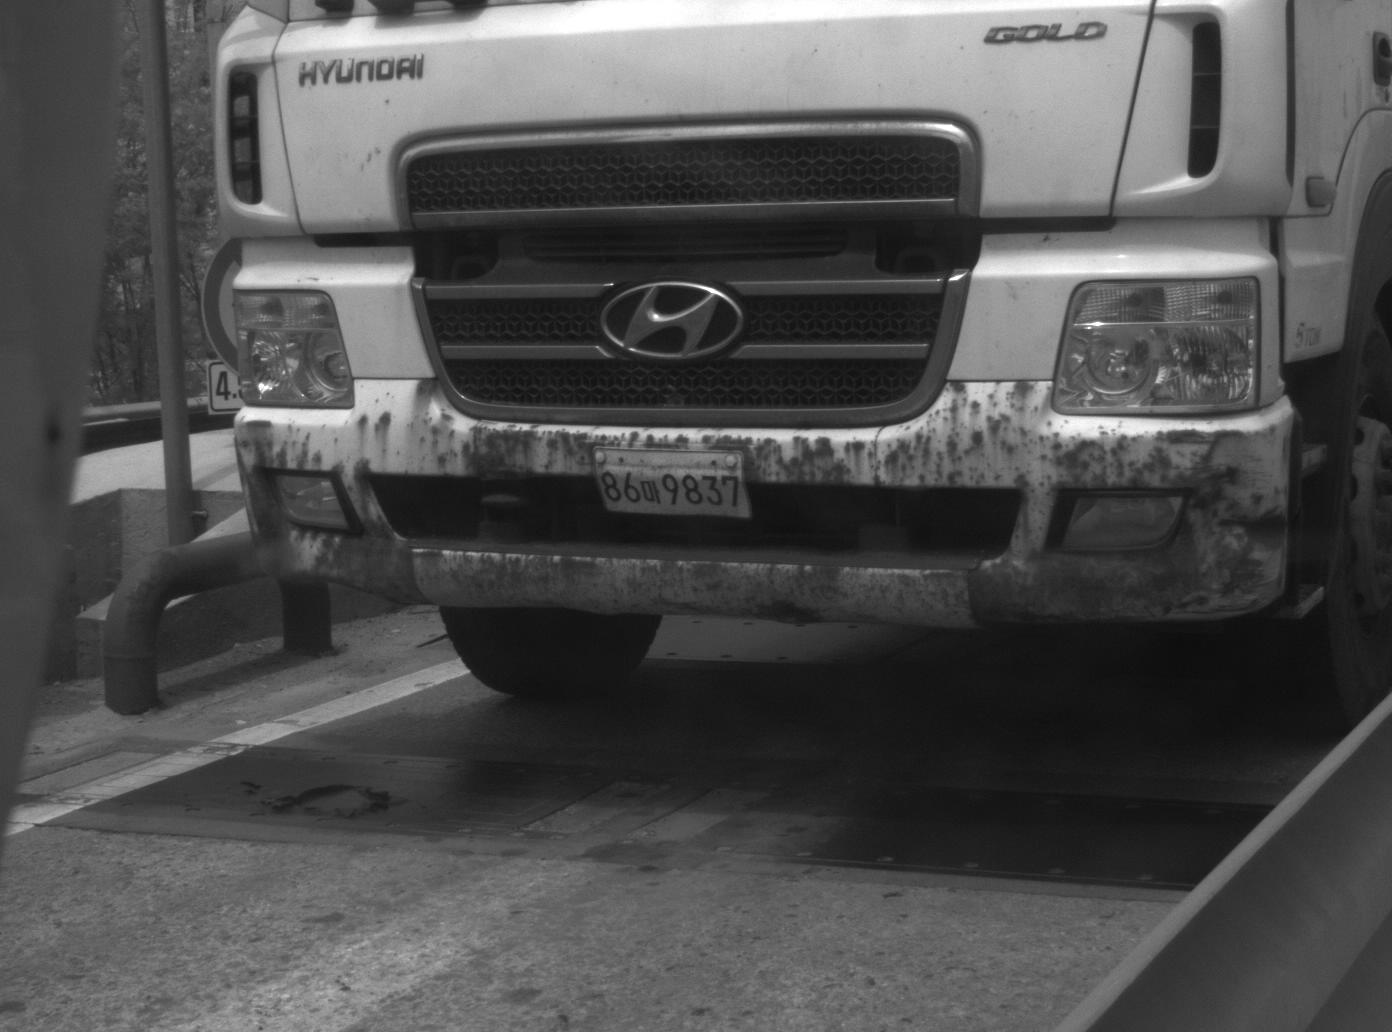car: (197, 1, 1392, 729)
plate: (590, 448, 754, 520)
